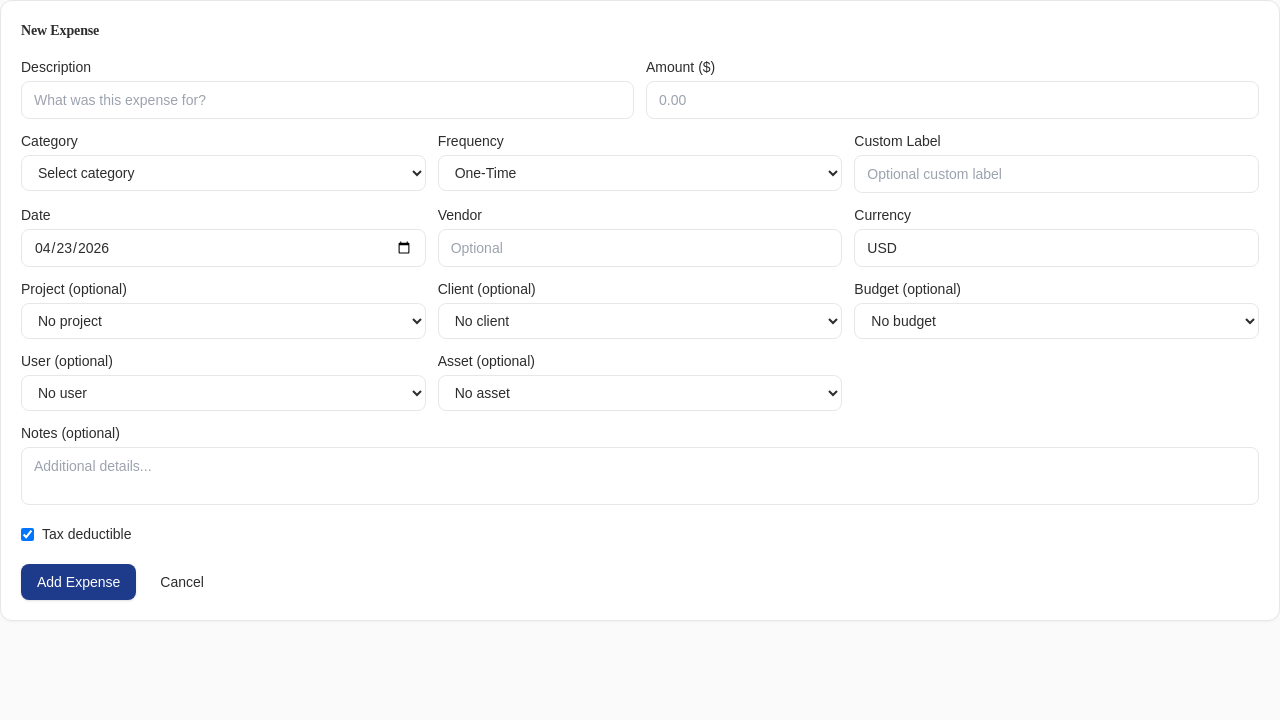
ExpenseForm › shows validation errors for empty required fields
// Clear the date field which has a default value
Clear the date field labelled "Date" at (223, 248), box 21,229 -> 426,267
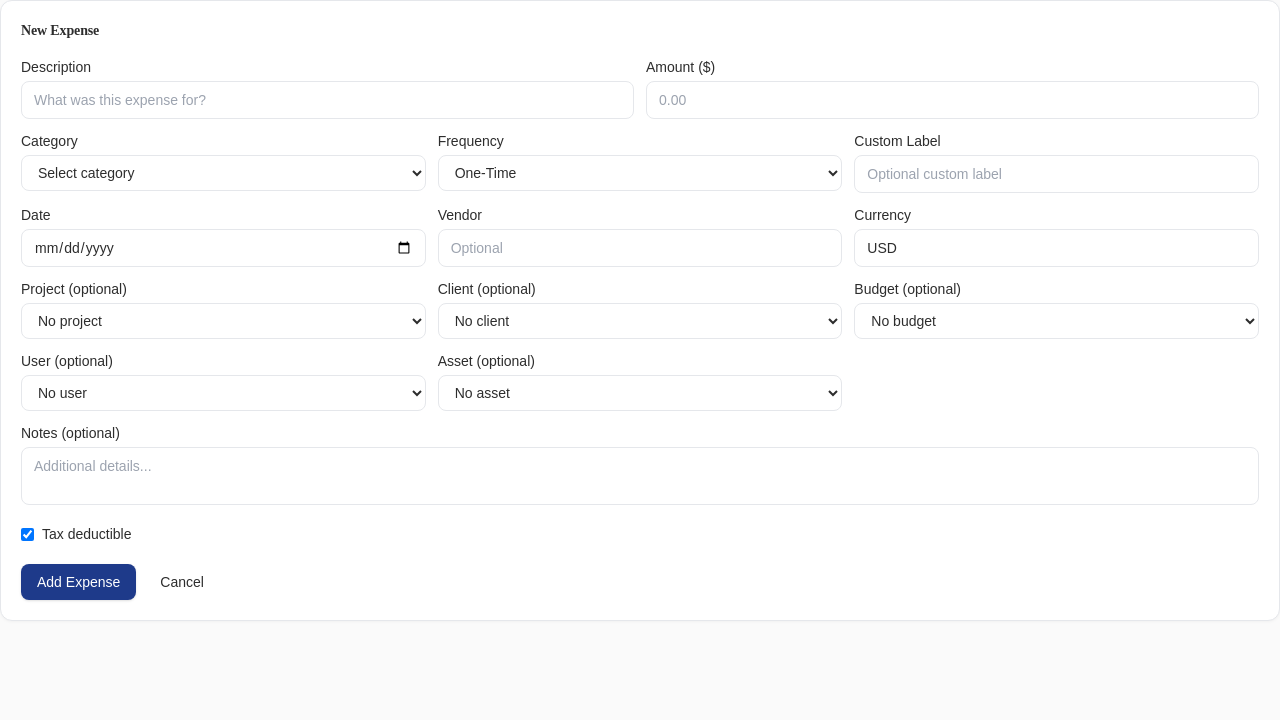
Click the button "Add Expense" at (79, 582), box 21,564 -> 136,600
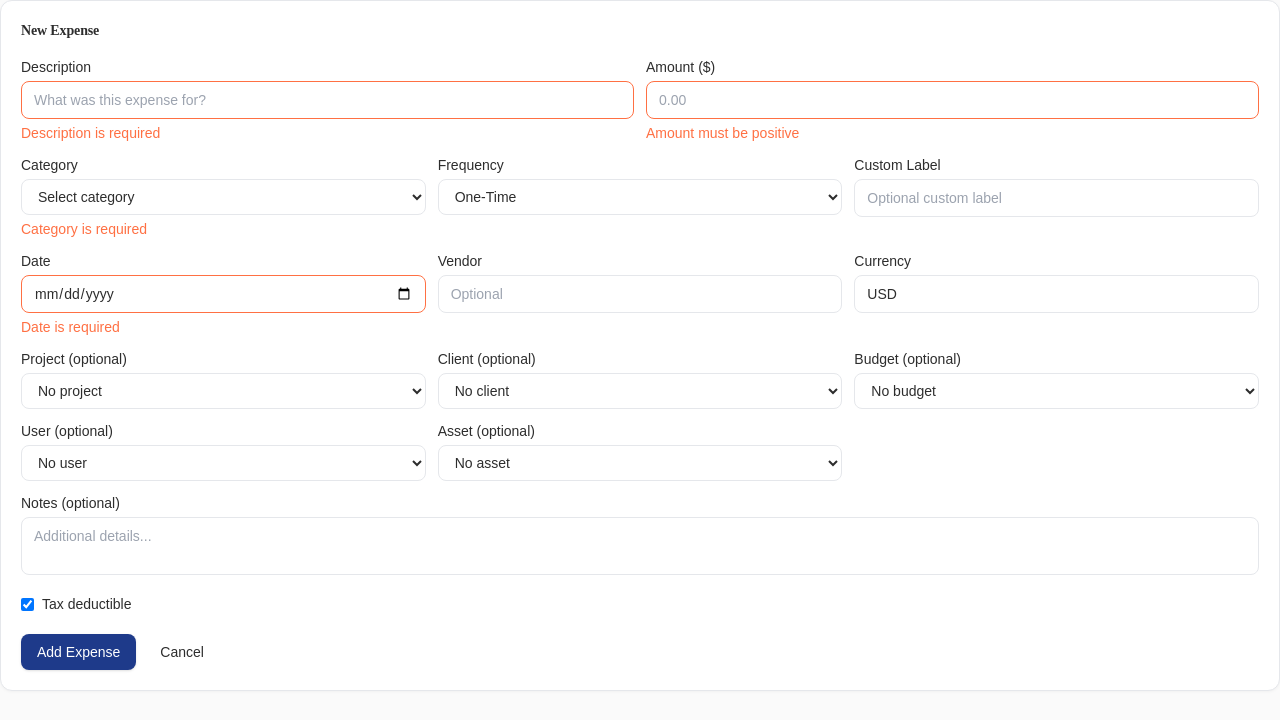
Now the text "Description is required" is shown, box 21,125 -> 160,141
Now the text "Amount must be positive" is shown, box 646,125 -> 799,141
Now the text "Category is required" is shown, box 21,221 -> 147,237
